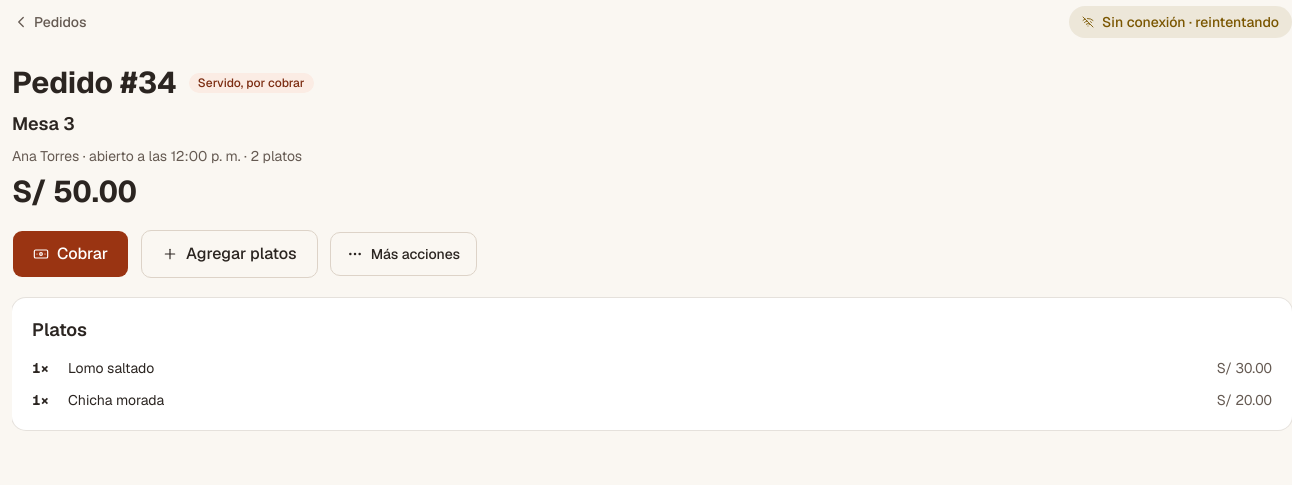
Scenario: OrderDetailView: quién puede hacer qué › el mesero cobra los pedidos que tomó, pero no cancela
The width and height of the screenshot is (1292, 485).
Expected: the button "Cobrar" is shown, [12,230,129,278]
Click the button with aria-label "Más acciones del pedido" at [403, 254], box [330,232,477,276]
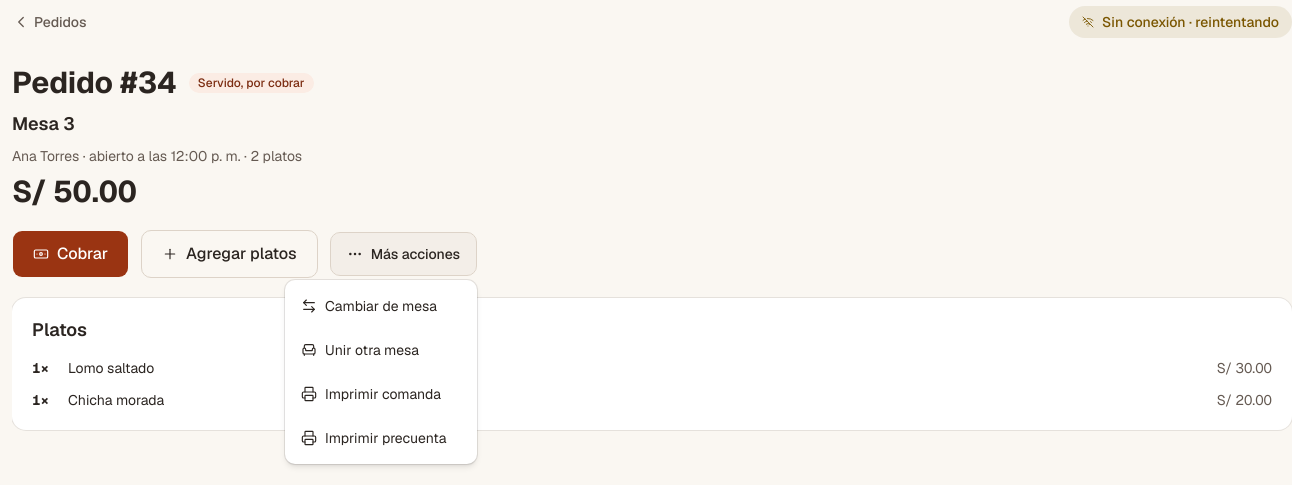
Expected: the menu item "Imprimir precuenta" is shown, [301,429,446,447]
